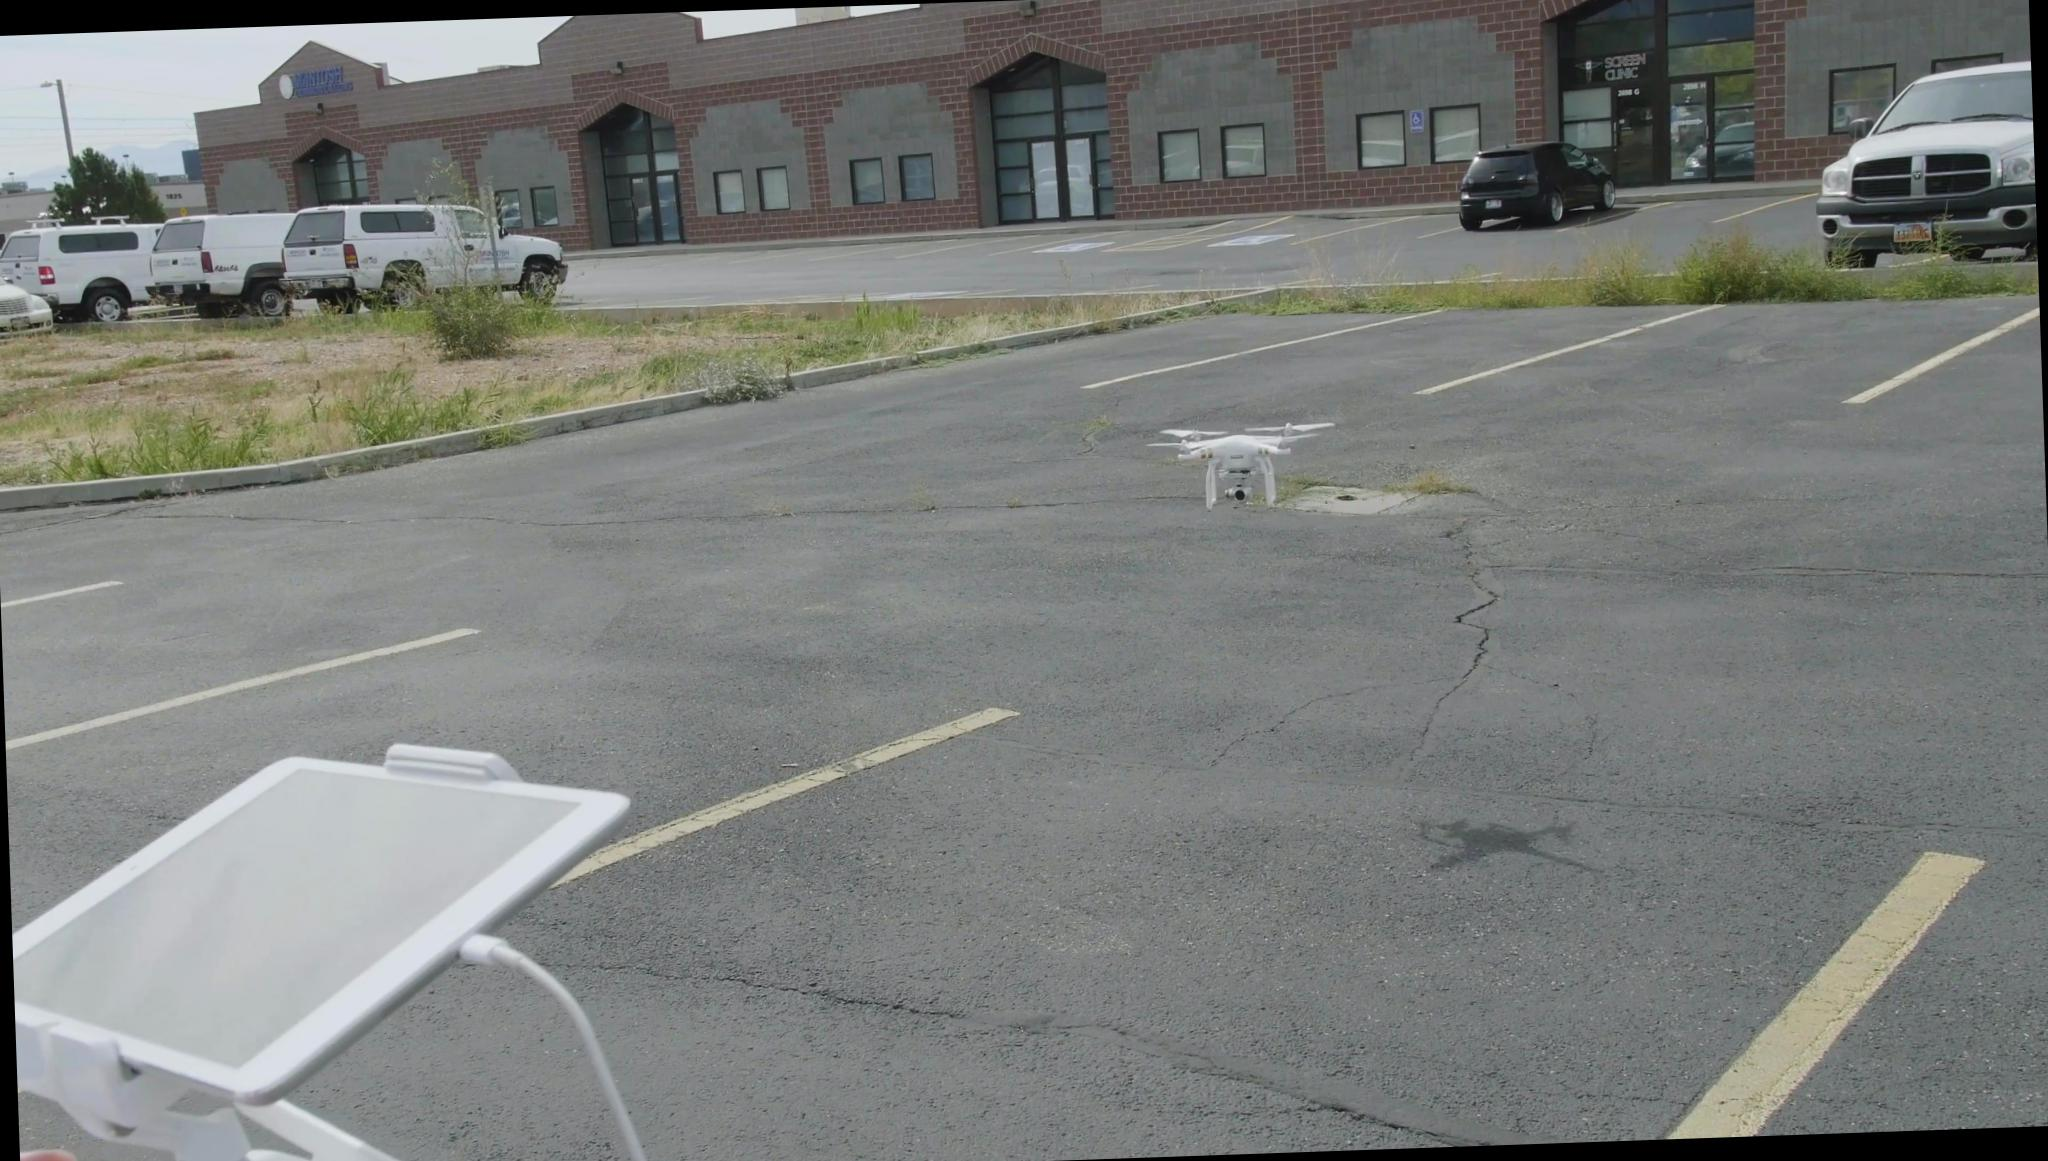drone: (1153, 407, 1335, 509)
